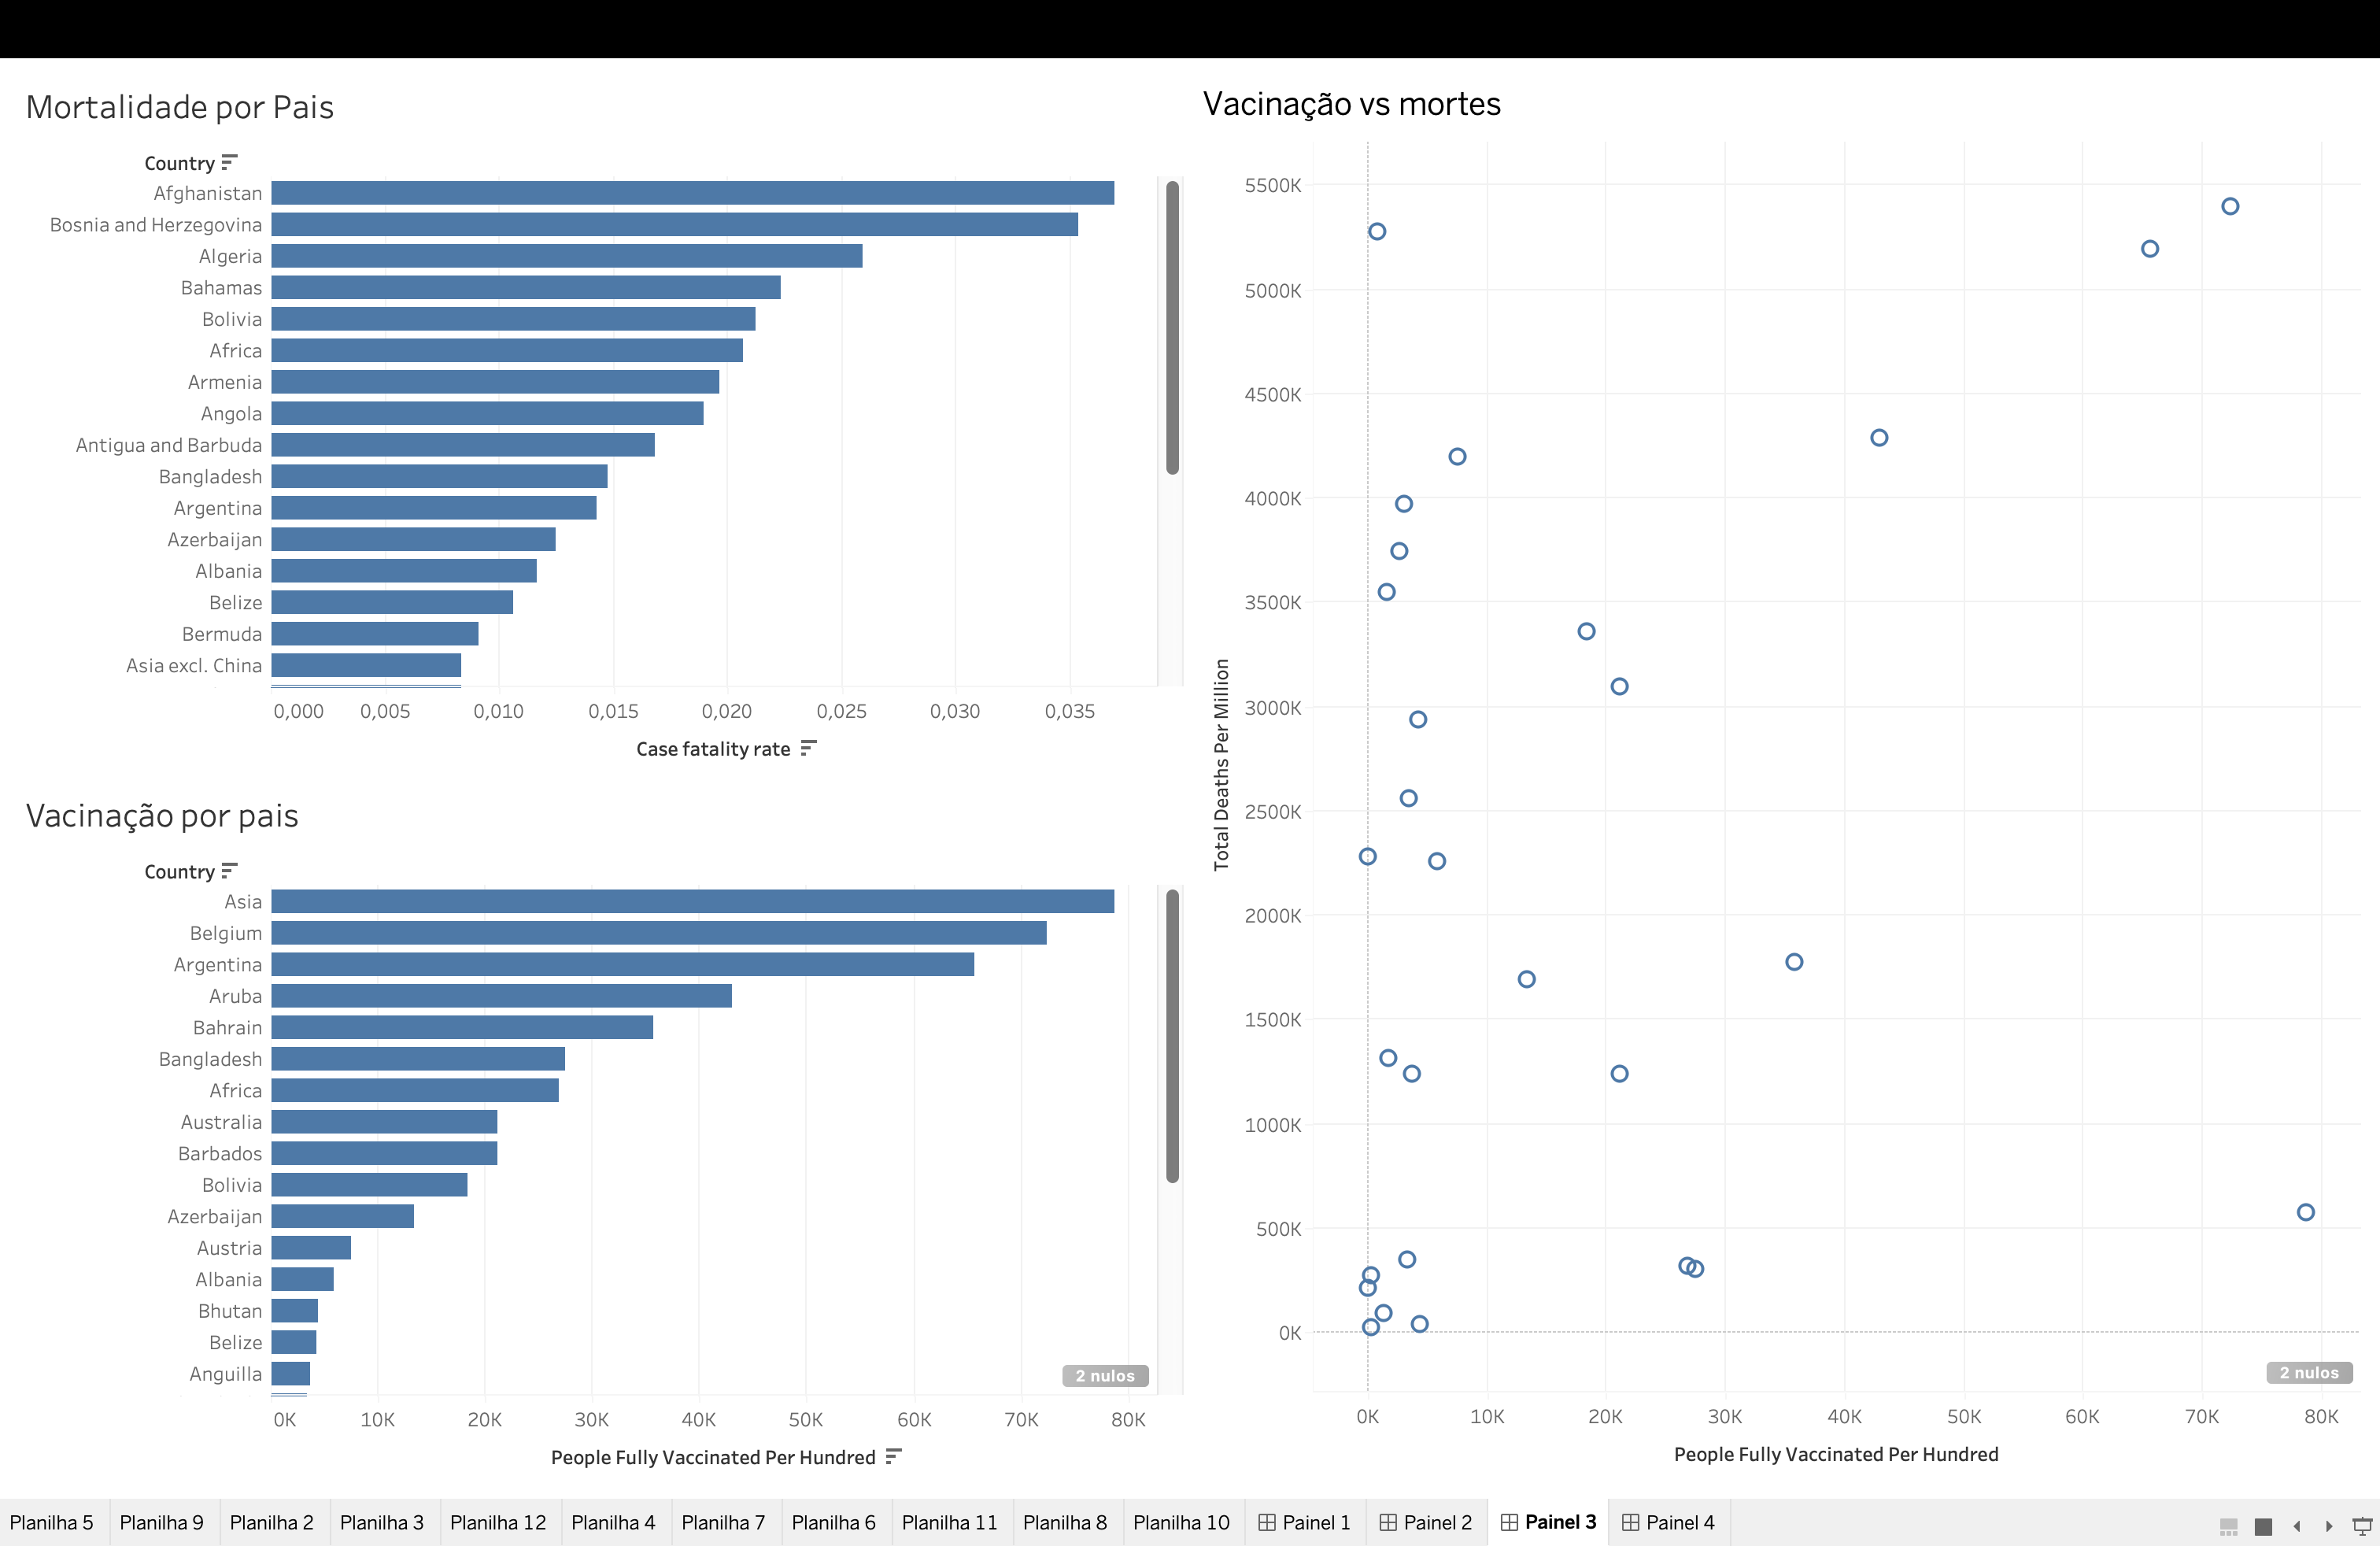

The page's visual inventory and layout, read from the dashboard file:
{"tool":"tableau","page":{"name":"Painel 3","canvas":[1000,1000],"units":"permille","ordinal":2},"visuals":[{"type":"worksheet","title":"Planilha 6","mark":"Automatic","rows":["country"],"cols":["Calculation_1668505507422208"],"box":[5.4,9.4,494.6,490.6]},{"type":"worksheet","title":"Planilha 8","mark":"Automatic","rows":["total_deaths_per_million"],"cols":["people_fully_vaccinated_per_hundred"],"box":[500,9.4,494.7,981.2]},{"type":"worksheet","title":"Planilha 11","mark":"Automatic","rows":["country"],"cols":["people_fully_vaccinated_per_hundred"],"box":[5.4,500,494.6,490.6]}]}

Visuals, with their boxes on the dashboard's canvas, which has no fixed pixel size, in thousandths of its width and height (x1, y1, x2, y2). These are canvas units, not pixel positions in the 2380x1546 screenshot, which may show the page scaled, cropped or inside an application window:
"Planilha 6" worksheet: box(5, 9, 500, 500)
"Planilha 8" worksheet: box(500, 9, 995, 991)
"Planilha 11" worksheet: box(5, 500, 500, 991)
